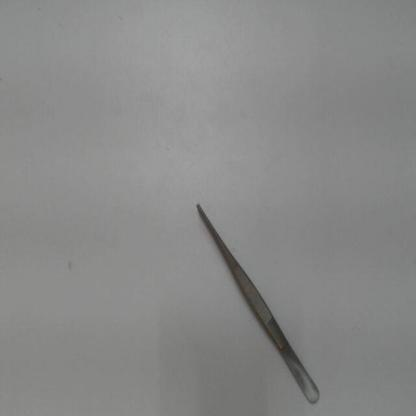Gillies Toothed Dissector: (190, 185, 327, 408)
